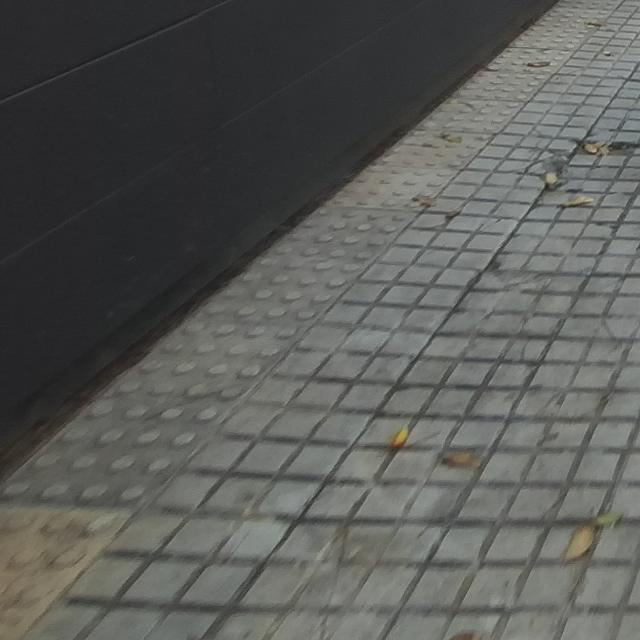calcada_quebrada: (464, 257, 546, 295), (522, 147, 576, 197), (576, 138, 640, 157)
